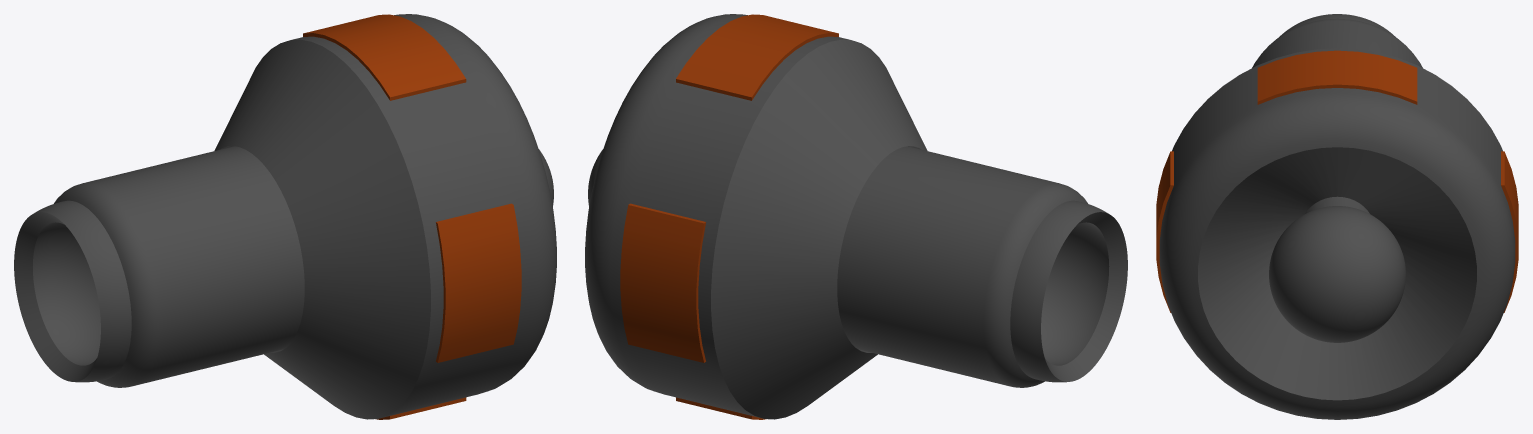
3 views of the same model, side by side, from view 1: azimuth 30°, elevation 25°; view 2: azimuth 150°, elevation 25°; view 3: azimuth 270°, elevation 25° (orthographic). The views are drawn at different scales.
Visible parts, largest first — view 1: node; view 2: node; view 3: node.
Part boxes in pixels (left/top/right/bottom): node: left=14, top=14, right=556, bottom=419; node: left=585, top=14, right=1127, bottom=419; node: left=1156, top=14, right=1518, bottom=419.
Size of the model in its own units: 0.1227 by 0.0866 by 0.0865.
